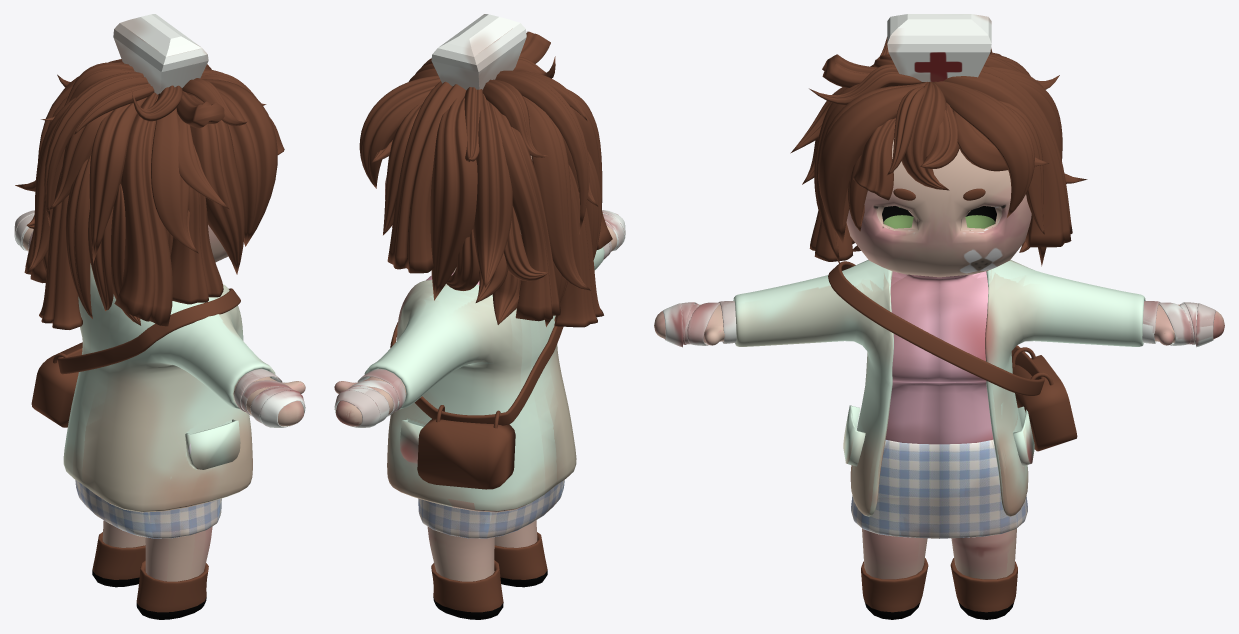
The model's file is OvergrownCity_Characters_Medic.fbx.
3 views of the same model, side by side, from view 1: azimuth 30°, elevation 25°; view 2: azimuth 150°, elevation 25°; view 3: azimuth 270°, elevation 25° (orthographic). The views are drawn at different scales.
Visible parts, largest first — view 1: body.002, hair.003, hat.002; view 2: body.002, hair.003, hat.002; view 3: body.002, hair.003, hat.002.
Part boxes in pixels (x1=…): body.002: x1=14, y1=210, x2=305, y2=619; hair.003: x1=15, y1=59, x2=284, y2=329; hat.002: x1=113, y1=14, x2=208, y2=94; body.002: x1=334, y1=156, x2=625, y2=619; hair.003: x1=359, y1=31, x2=612, y2=327; hat.002: x1=431, y1=14, x2=526, y2=90; body.002: x1=654, y1=138, x2=1224, y2=619; hair.003: x1=790, y1=37, x2=1087, y2=266; hat.002: x1=887, y1=14, x2=991, y2=81.
Bounding box in the file's own units: 62.38 × 154 × 133.
Materials: 9 (6 with a texture image).
